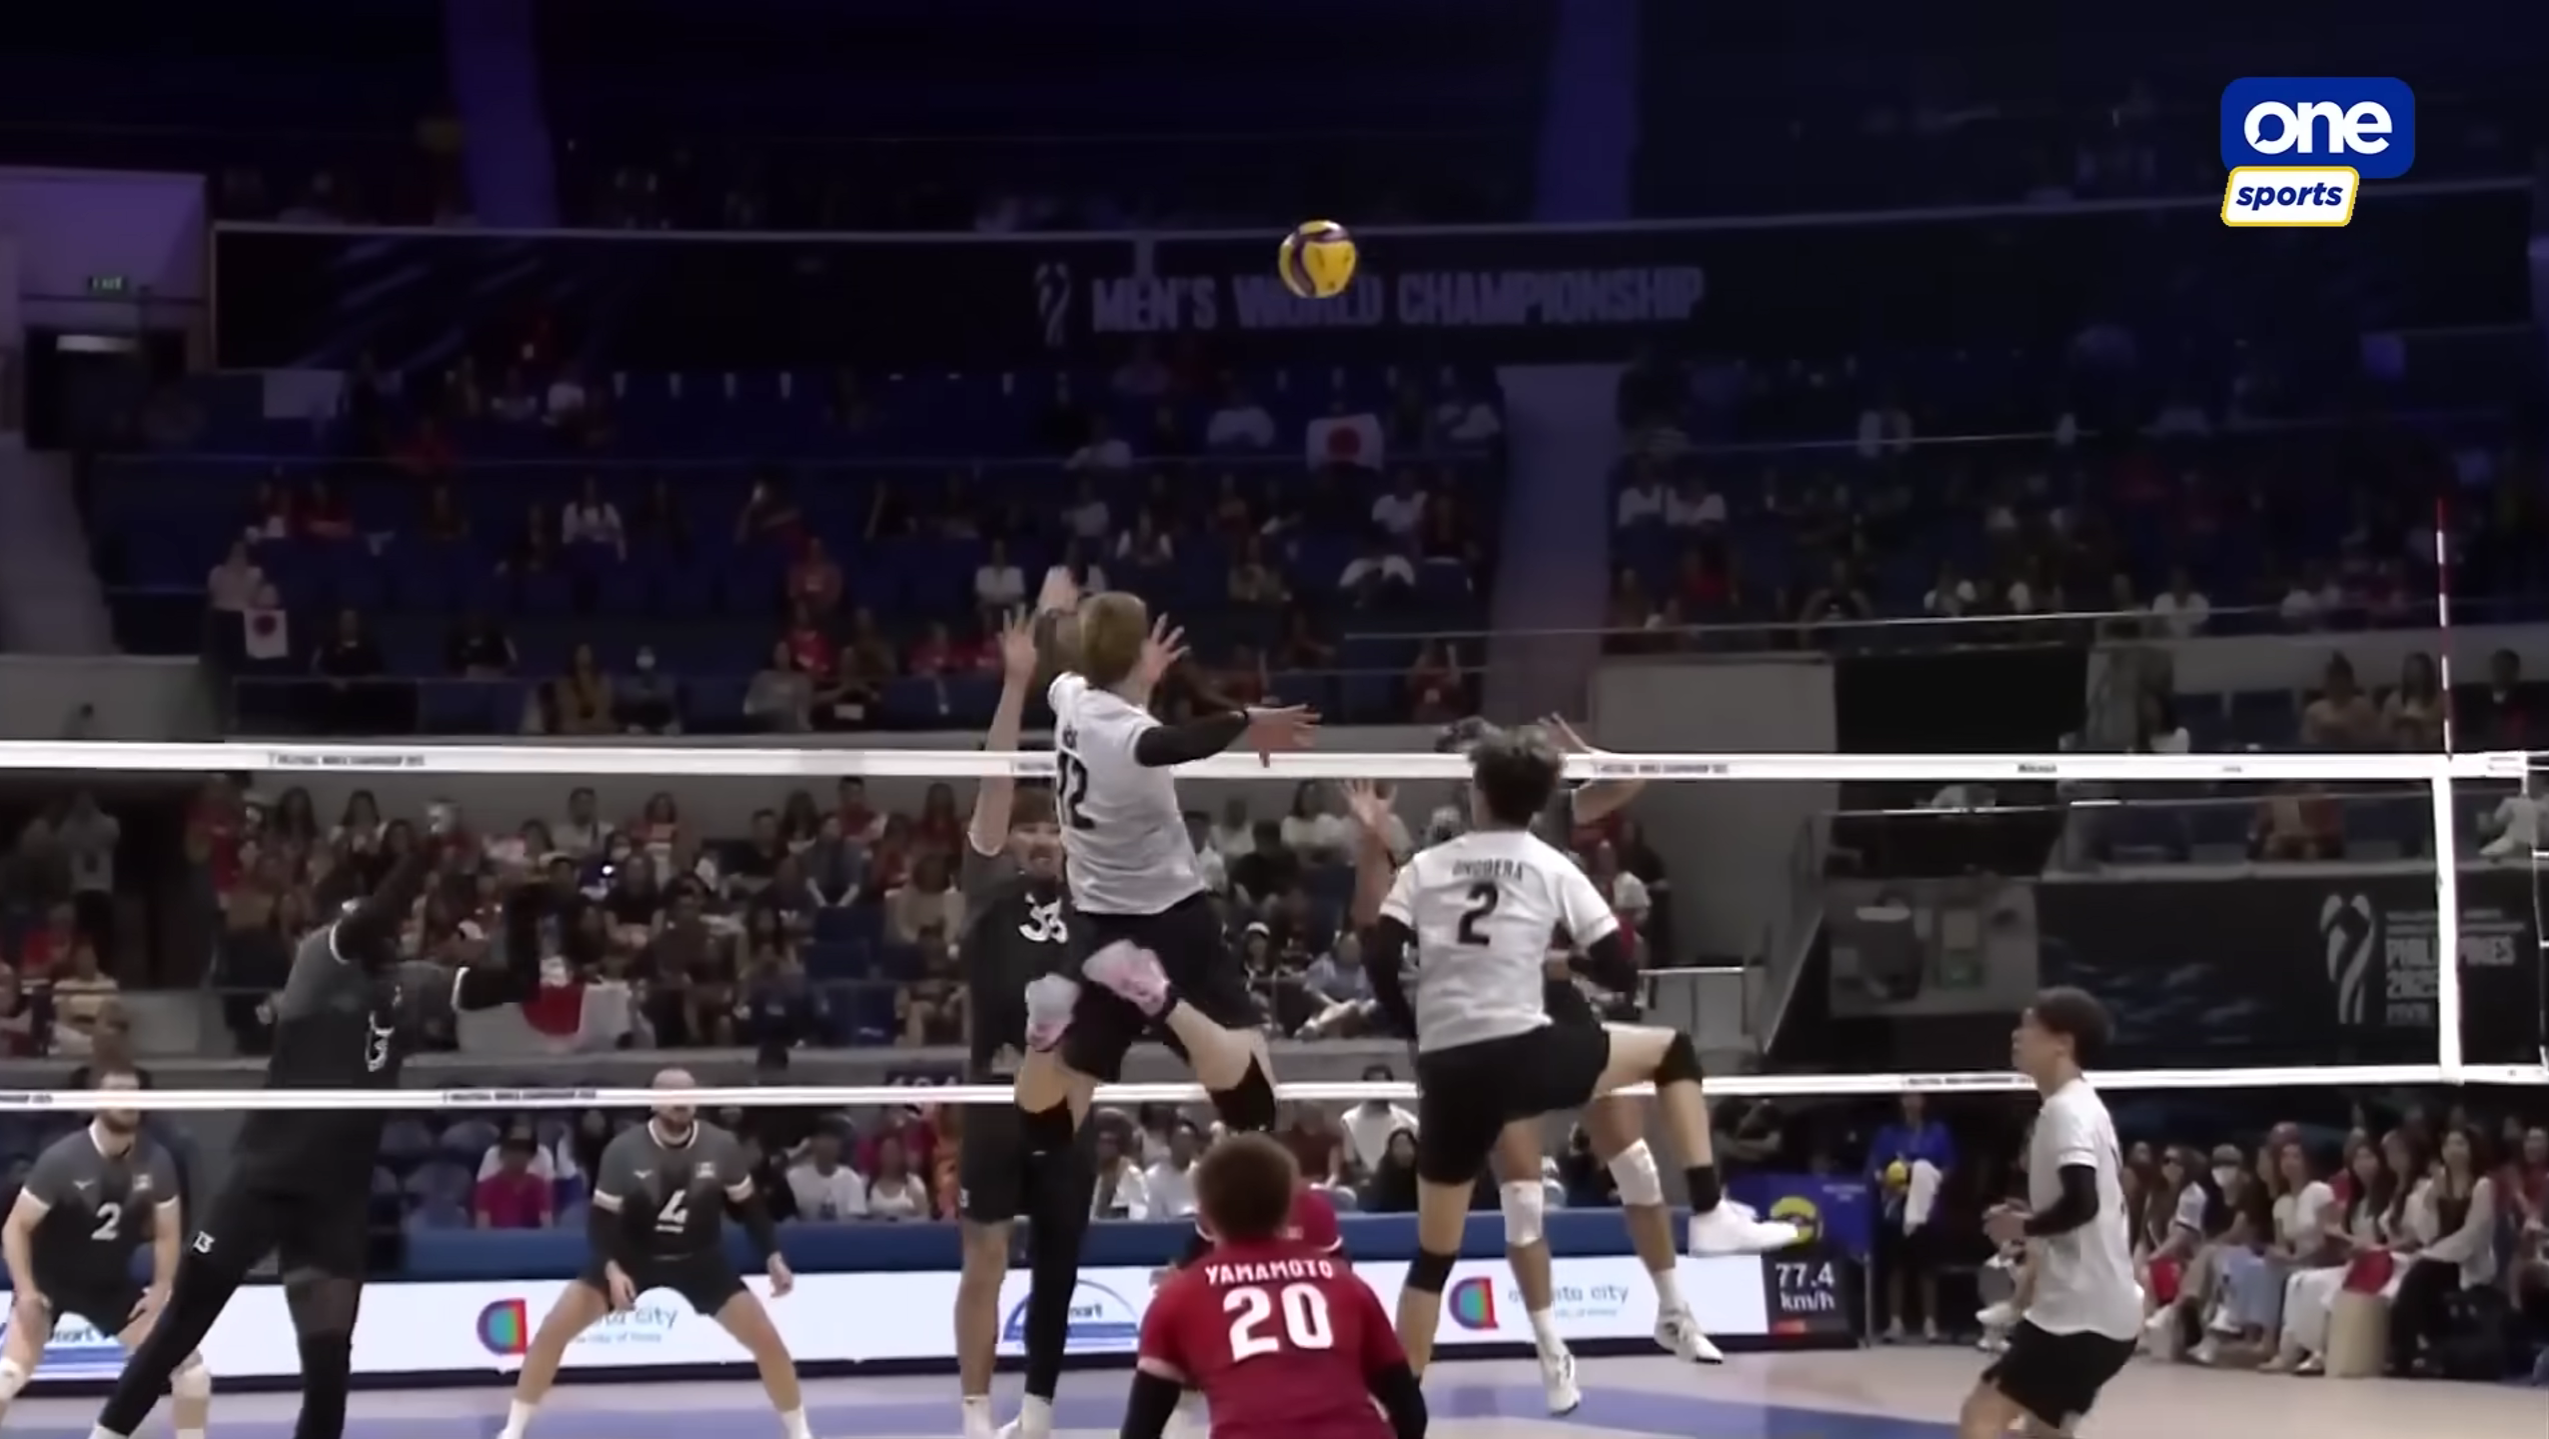Ball: (1274, 215, 1360, 301)
